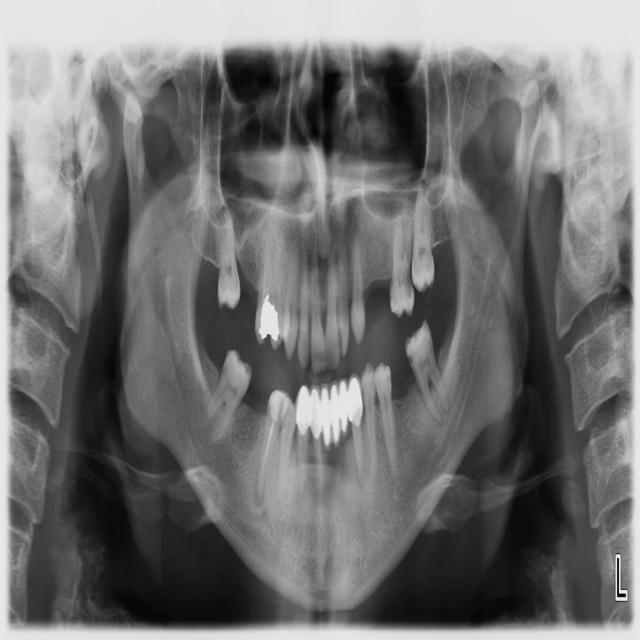mandibula: (120, 75, 542, 615)
